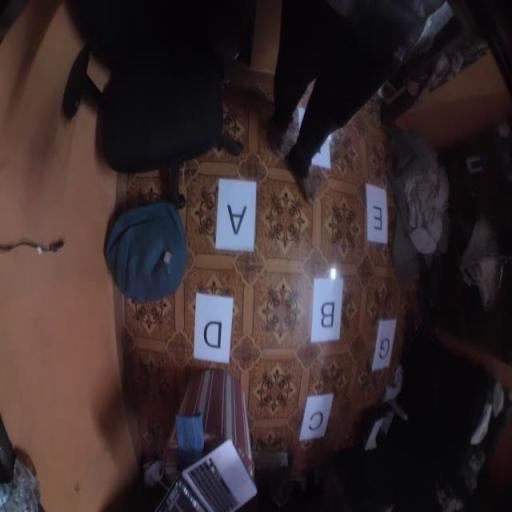A: (214, 178, 257, 252)
B: (310, 275, 344, 345)
C: (298, 394, 334, 442)
D: (193, 291, 234, 365)
E: (365, 182, 389, 244)
G: (370, 318, 397, 372)
